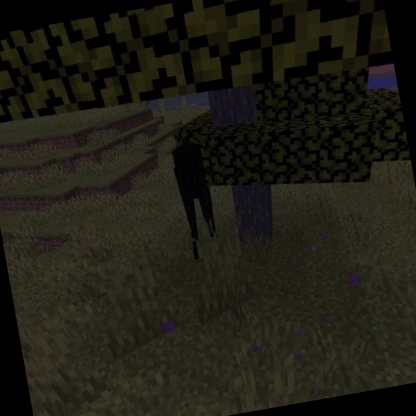enderman: (167, 139, 223, 263)
